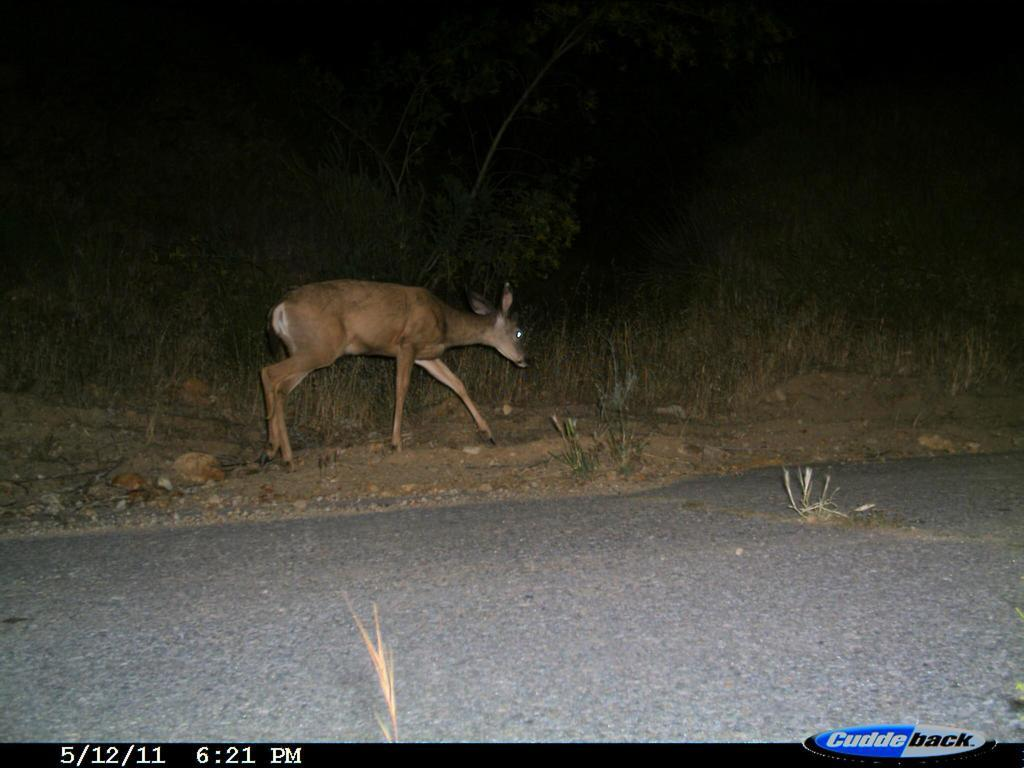deer: (241, 264, 542, 473)
